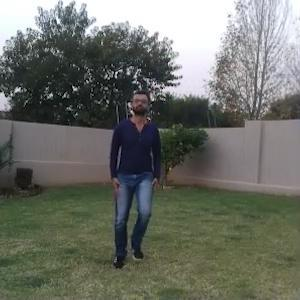follow: (110, 82, 161, 257)
